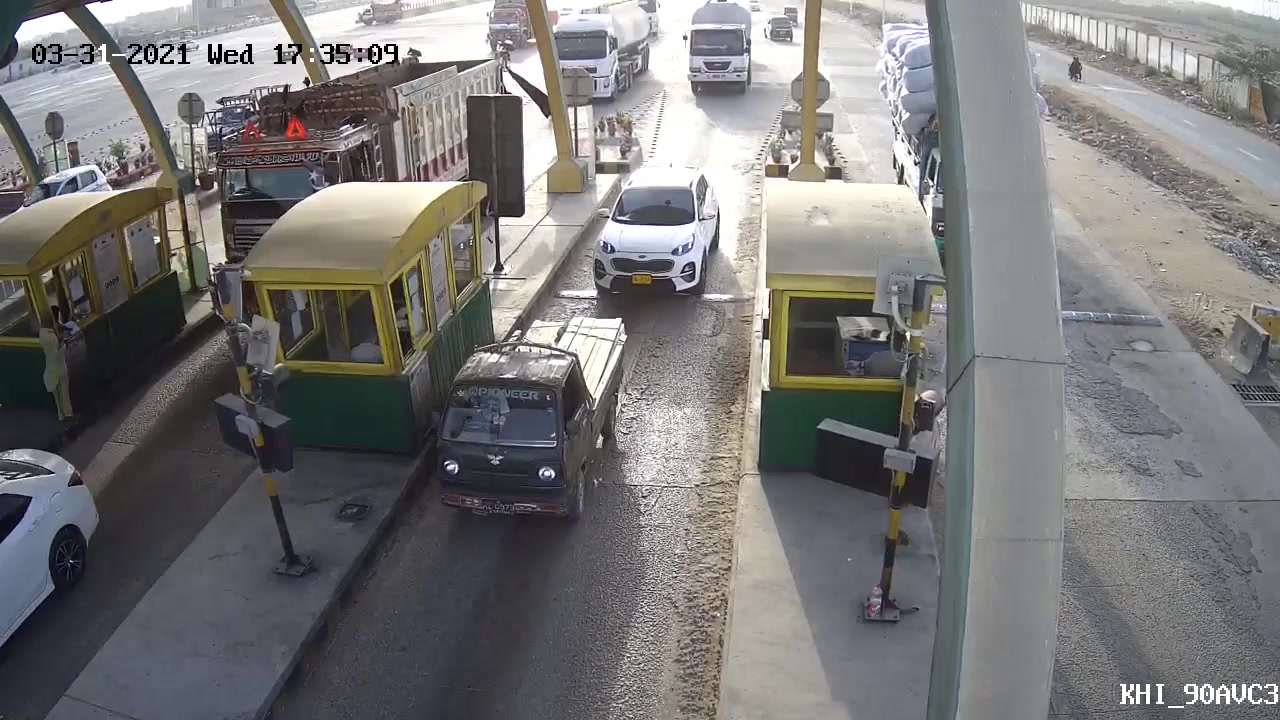F1: (434, 313, 633, 533), (579, 152, 718, 295)
